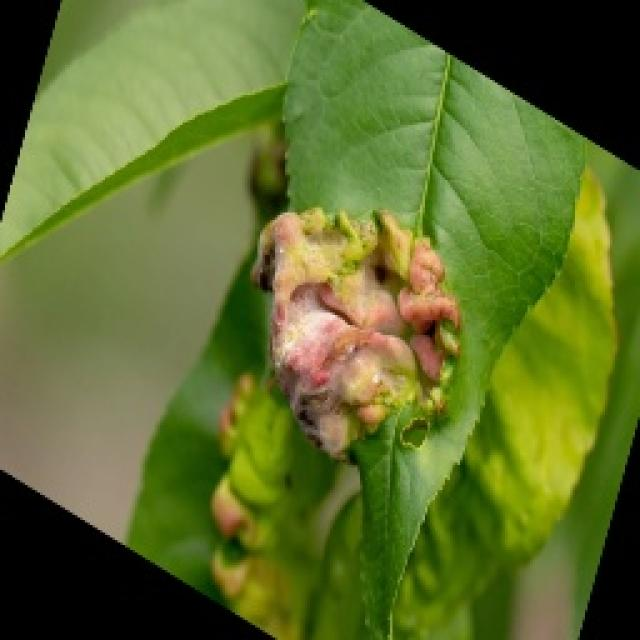peach_leaf_curl: (248, 202, 462, 462)
